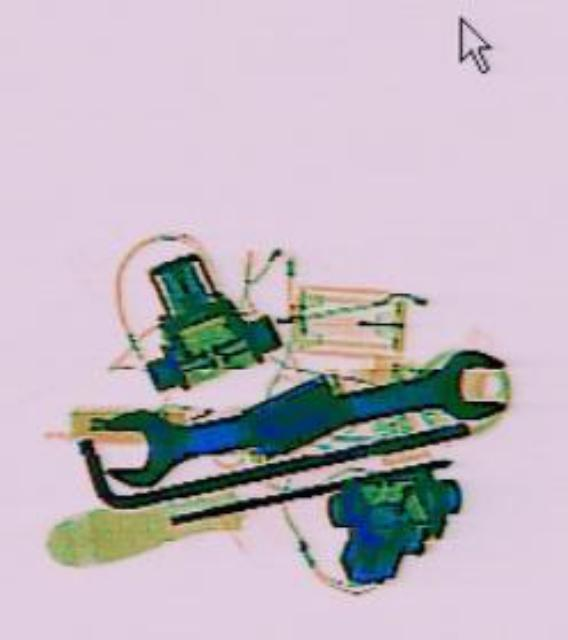Wrench: (92, 335, 510, 491)
